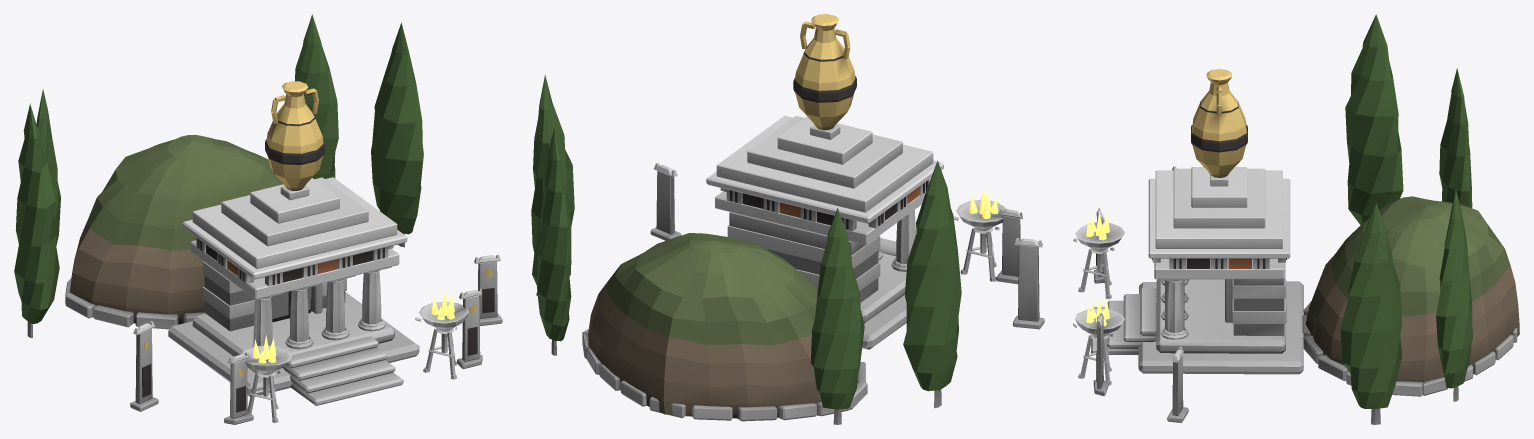
Rendered from tombs-of-erebus-l1.glb.
The picture shows the model from 3 angles, left to right: view 1: azimuth 30°, elevation 25°; view 2: azimuth 150°, elevation 25°; view 3: azimuth 270°, elevation 25°; orthographic projection. The views are drawn at different scales.
Parts seen in each view (by area): view 1: tombs-of-erebus-l1; view 2: tombs-of-erebus-l1; view 3: tombs-of-erebus-l1.
Part boxes in pixels (<box>): tombs-of-erebus-l1: <box>14,14,502,424</box>; tombs-of-erebus-l1: <box>531,14,1044,424</box>; tombs-of-erebus-l1: <box>1073,14,1519,424</box>.
Size of the model in its own units: 1.48 by 0.9517 by 1.47.
